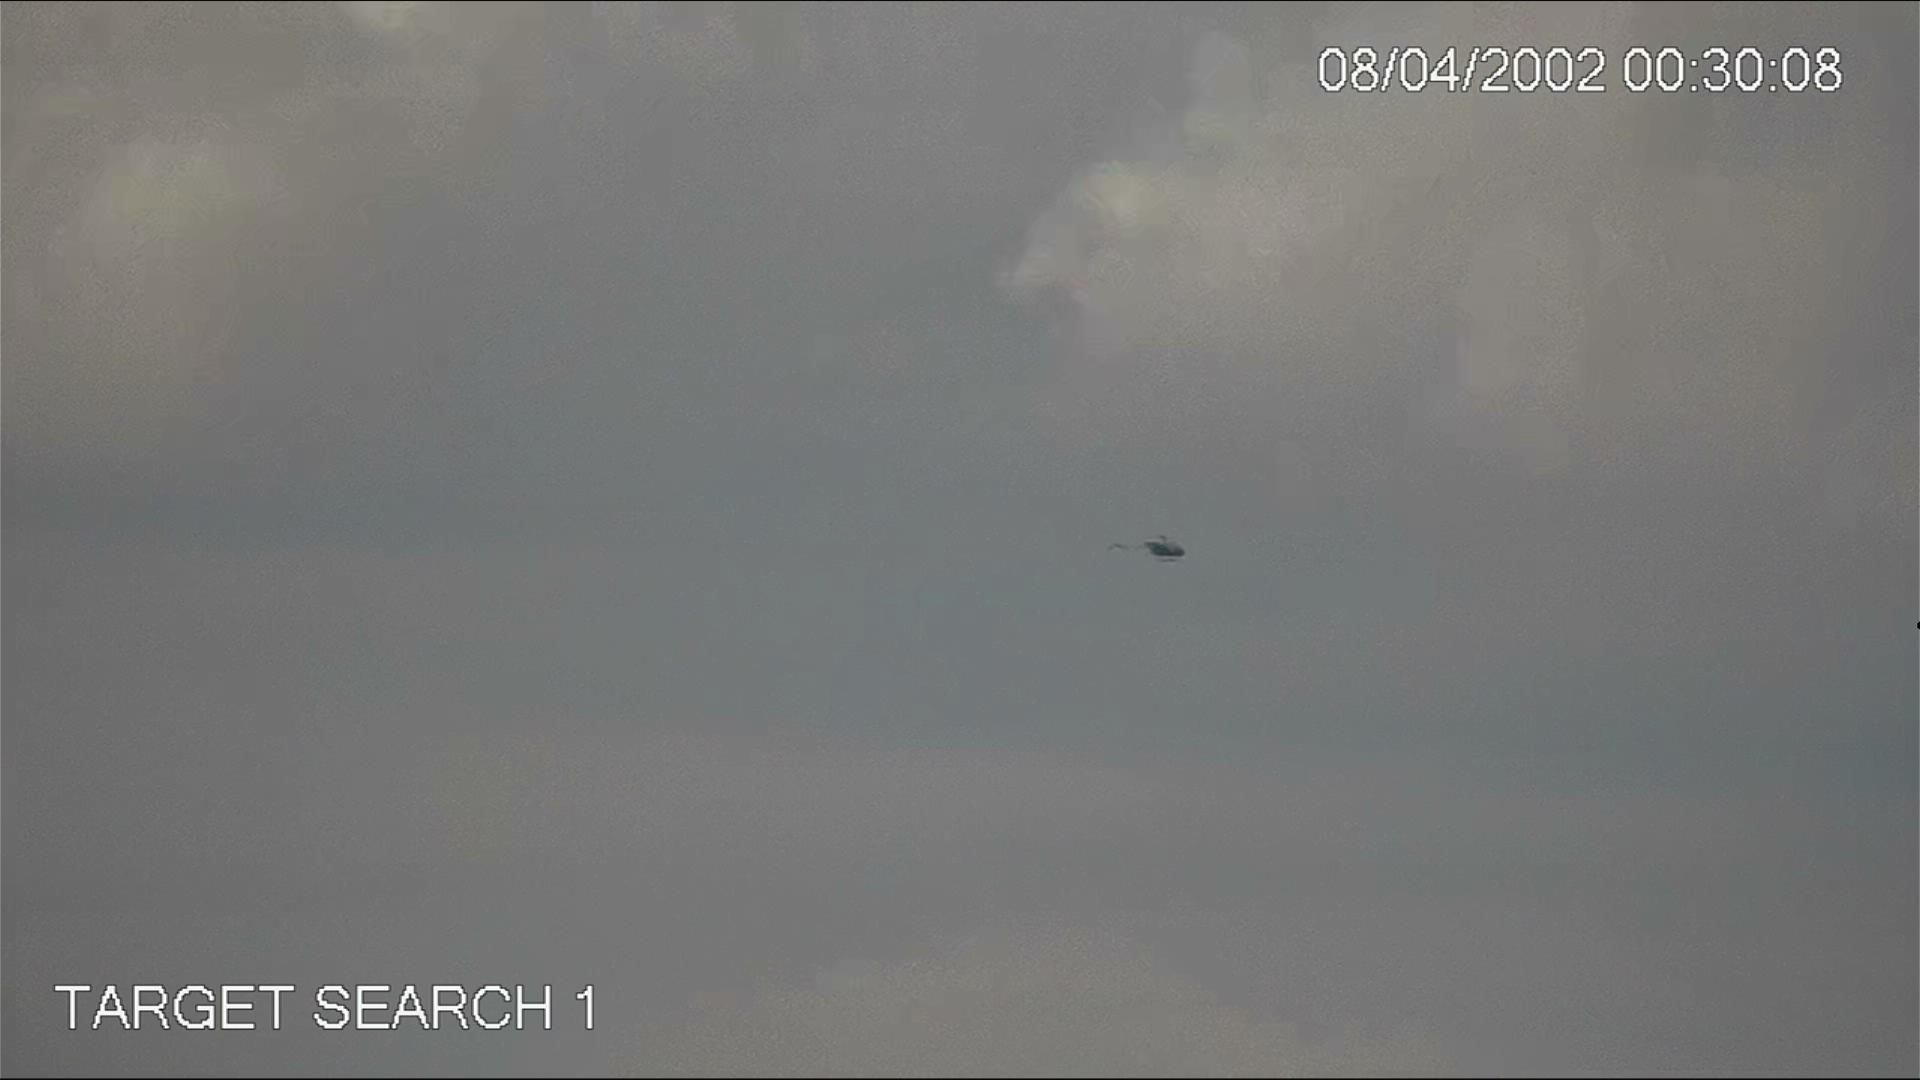SU_30: (1101, 531, 1191, 567)
